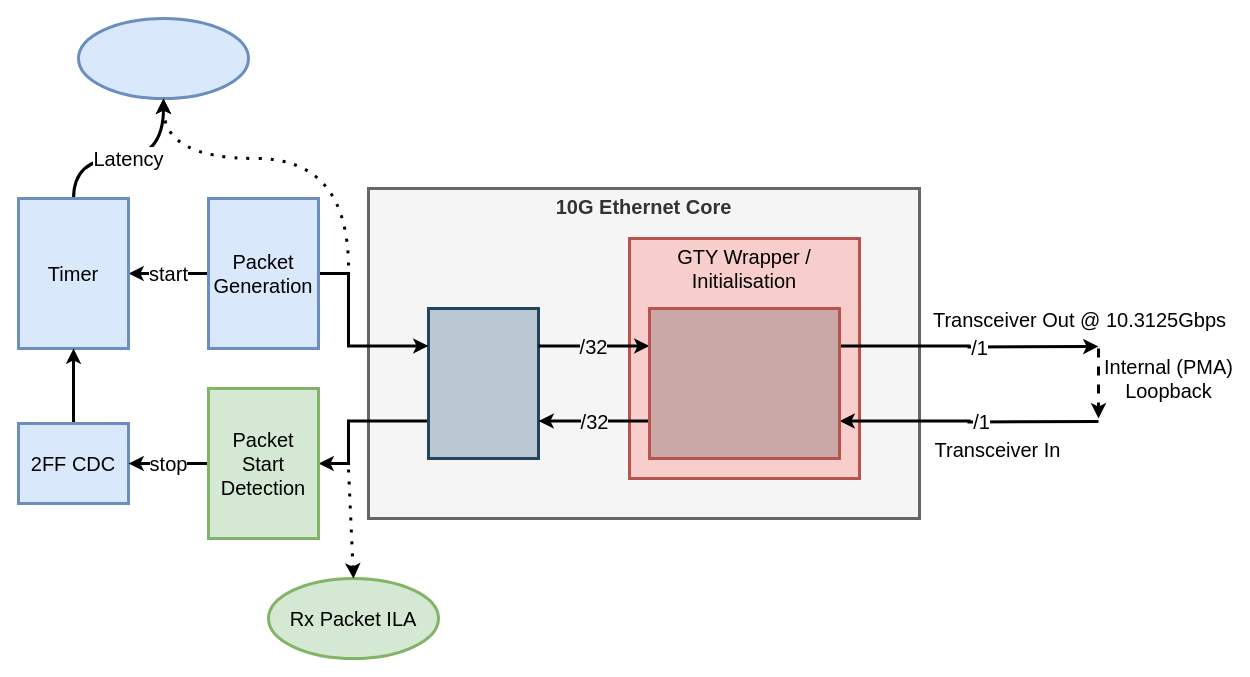
Image size: 1250x677. Some labels were removed from this diagram. Here are the shapes that lost their labels. From the top down, the centre of each, then its label:
point 163,58: Tx Packet ILA
point 483,383: MAC/ PCS
point 744,383: GTY IP
